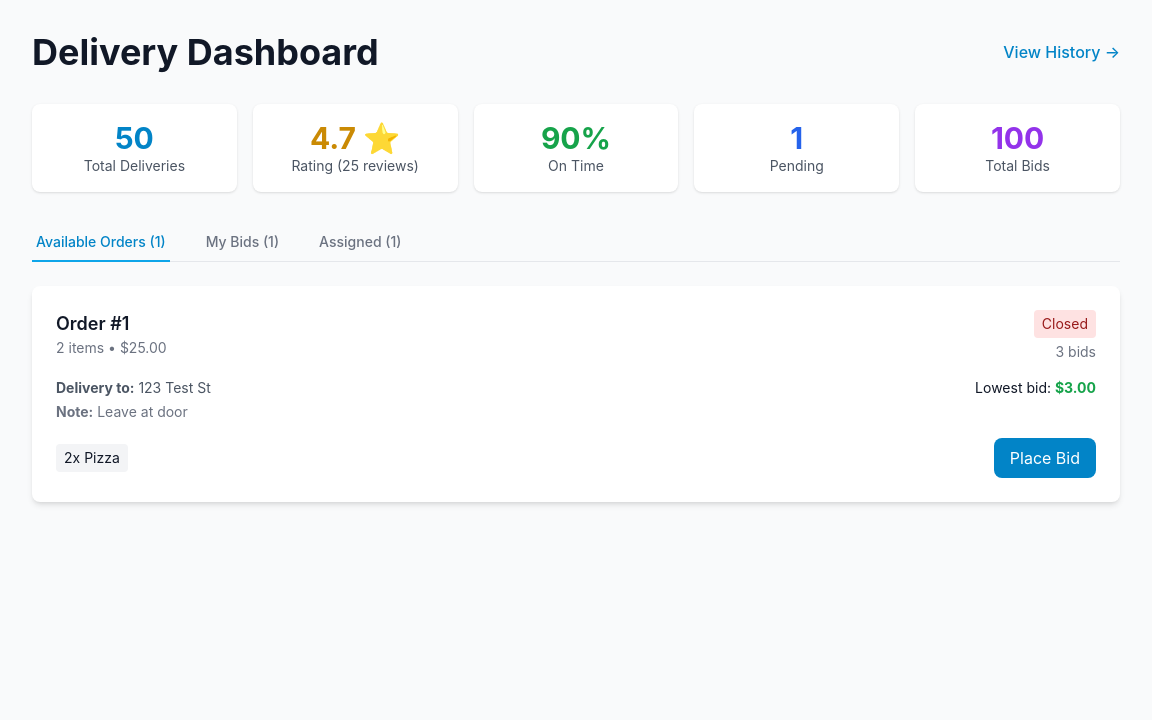
Test: DeliveryDashboard › Assigned Orders Tab › switches to assigned tab when clicked
What coordinates should you click on to do the following:
click the button "Assigned (1)"
I would click on:
 (360, 243)
Its box is top-left (315, 224), bottom-right (405, 262).
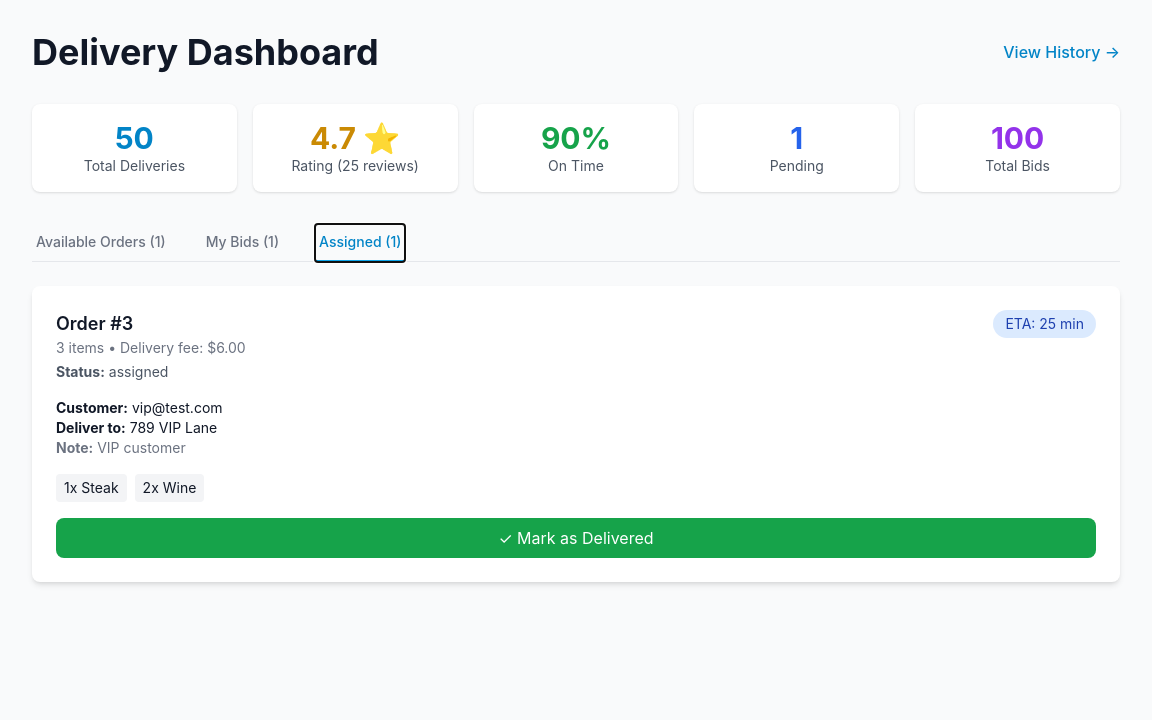
expect the heading "Order #3" is shown: met, box top-left (56, 313), bottom-right (133, 334)
expect the text "789 VIP Lane" is shown: met, box top-left (130, 419), bottom-right (217, 436)
